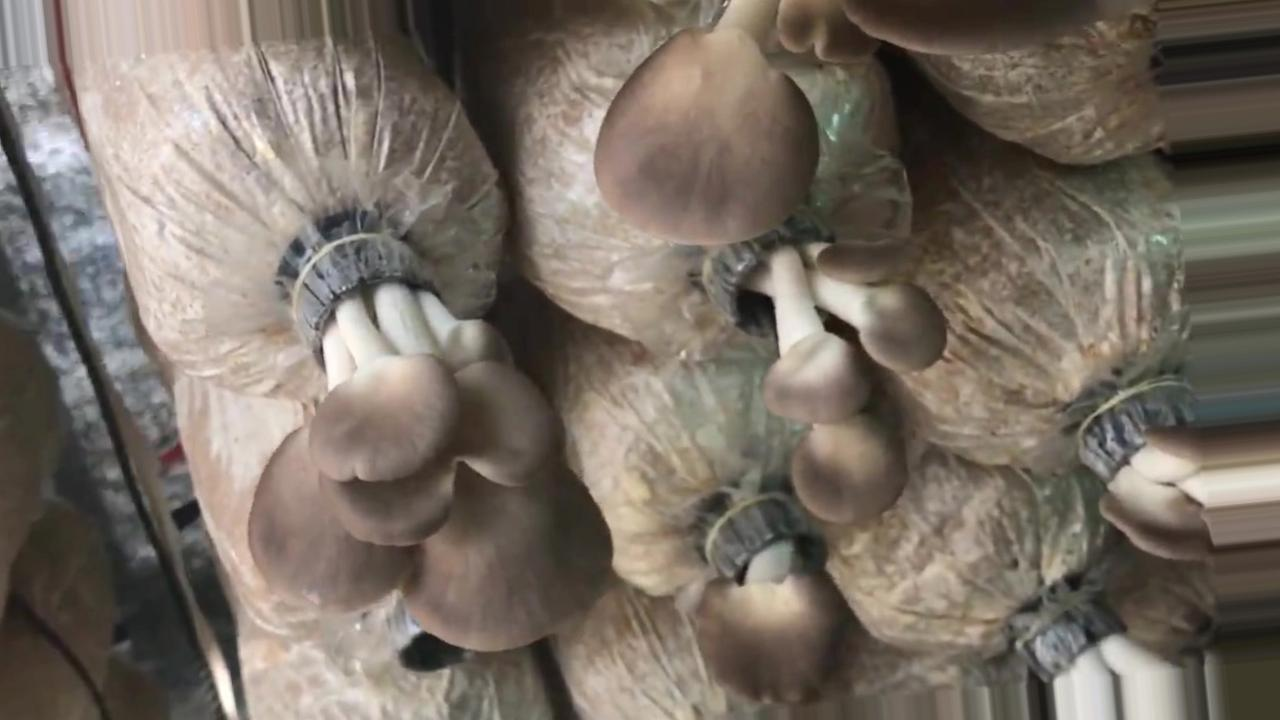nam: (250, 237, 610, 649), (595, 3, 1123, 246), (706, 213, 946, 519), (695, 514, 854, 703), (1095, 389, 1270, 560)
